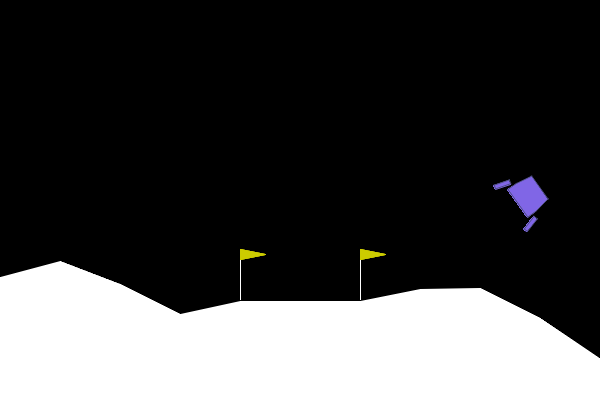lander: (491, 162, 559, 234)
